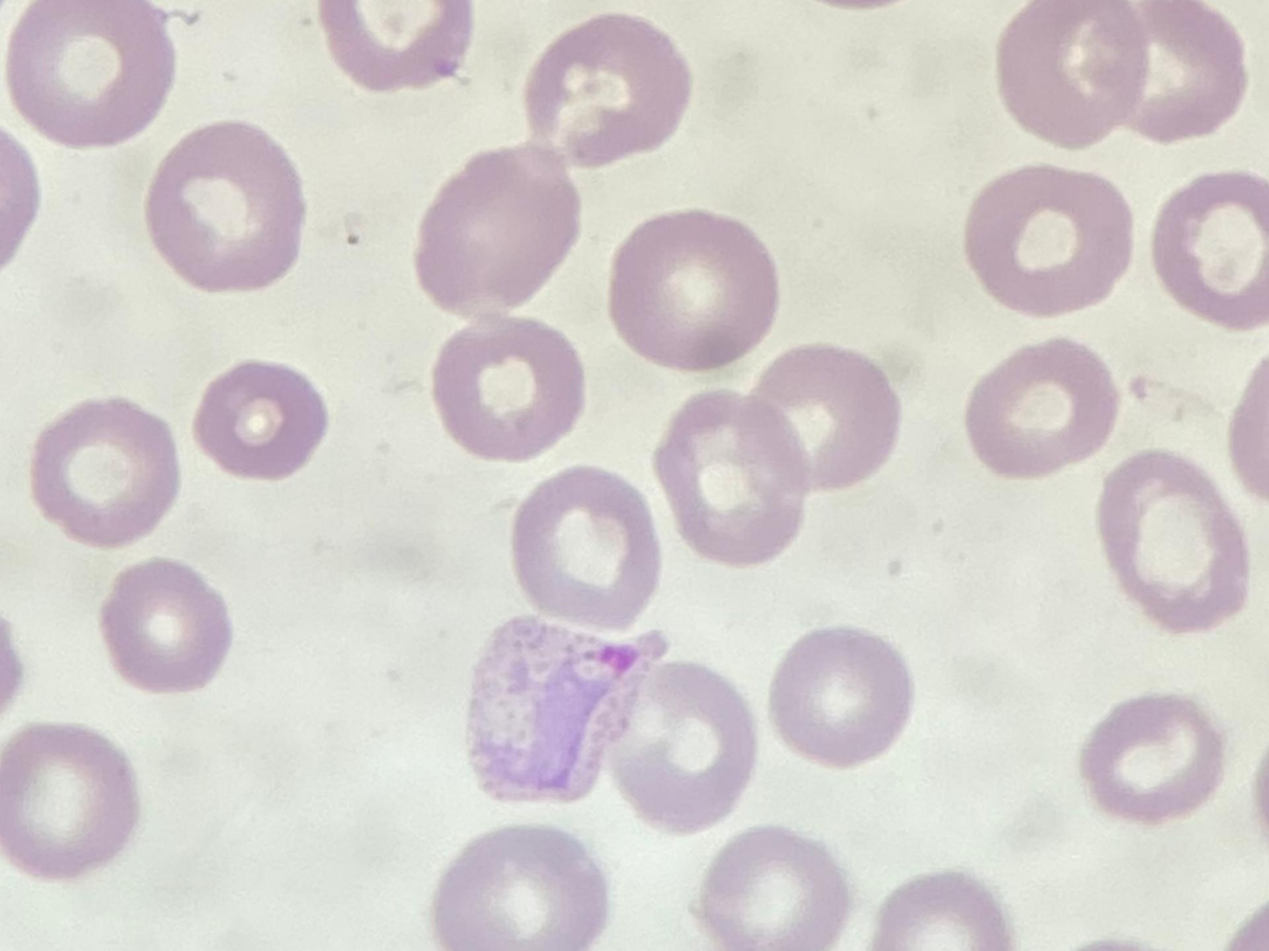Infected: (464, 610, 670, 808)
Uninfected: (1096, 448, 1252, 635), (142, 124, 310, 296), (415, 146, 582, 316), (608, 207, 781, 371), (525, 15, 695, 177), (600, 665, 759, 835), (658, 387, 807, 568), (965, 169, 1132, 318), (514, 463, 663, 630), (10, 4, 178, 149), (433, 308, 586, 461), (747, 342, 900, 494), (996, 0, 1143, 152), (31, 399, 179, 549), (967, 336, 1118, 482), (0, 721, 137, 880), (436, 823, 605, 950), (1100, 0, 1249, 144), (1077, 693, 1225, 827), (770, 627, 911, 766), (697, 825, 851, 951), (1153, 172, 1269, 330), (102, 557, 233, 695), (195, 362, 330, 483), (321, 0, 473, 91)
